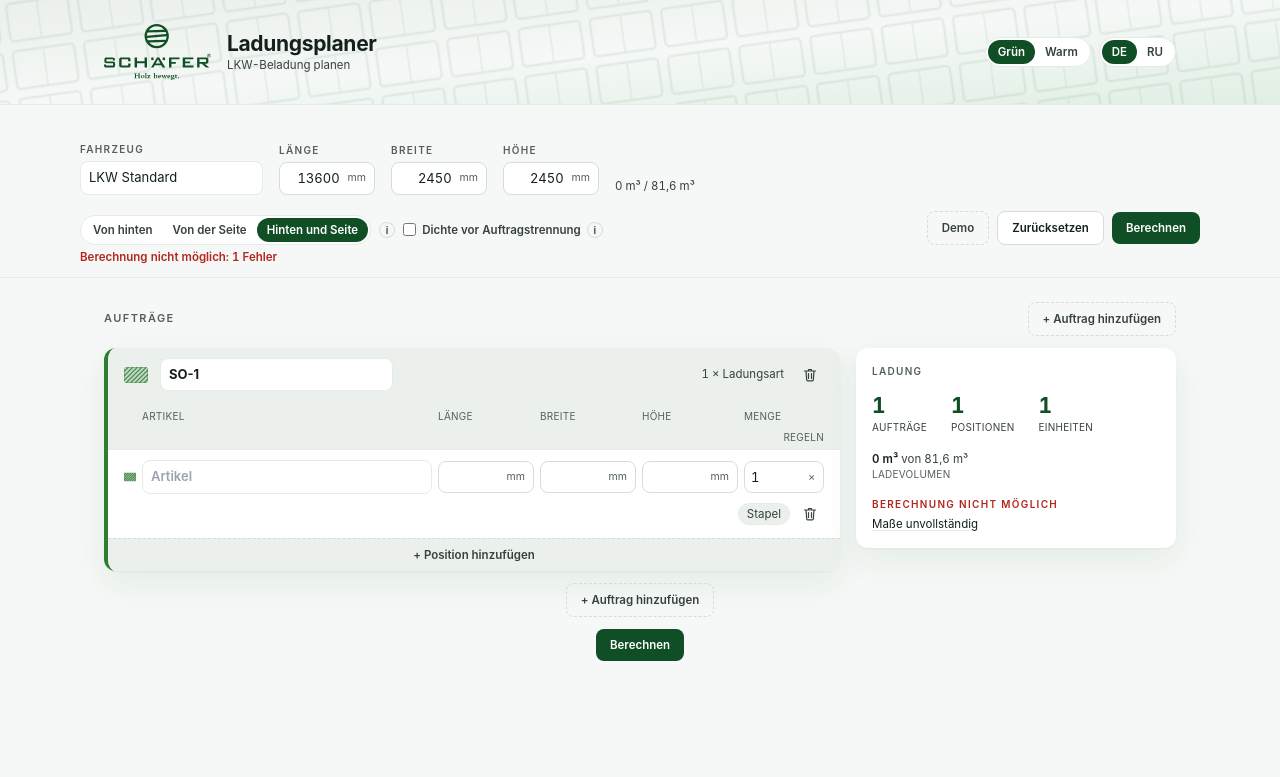
Scenario: SetupScreen › defaults orientation to free (no fork constraint) and hides the fork-axis control
Click the button with test id "rule-chip" at (764, 514), box [738,503,790,525]
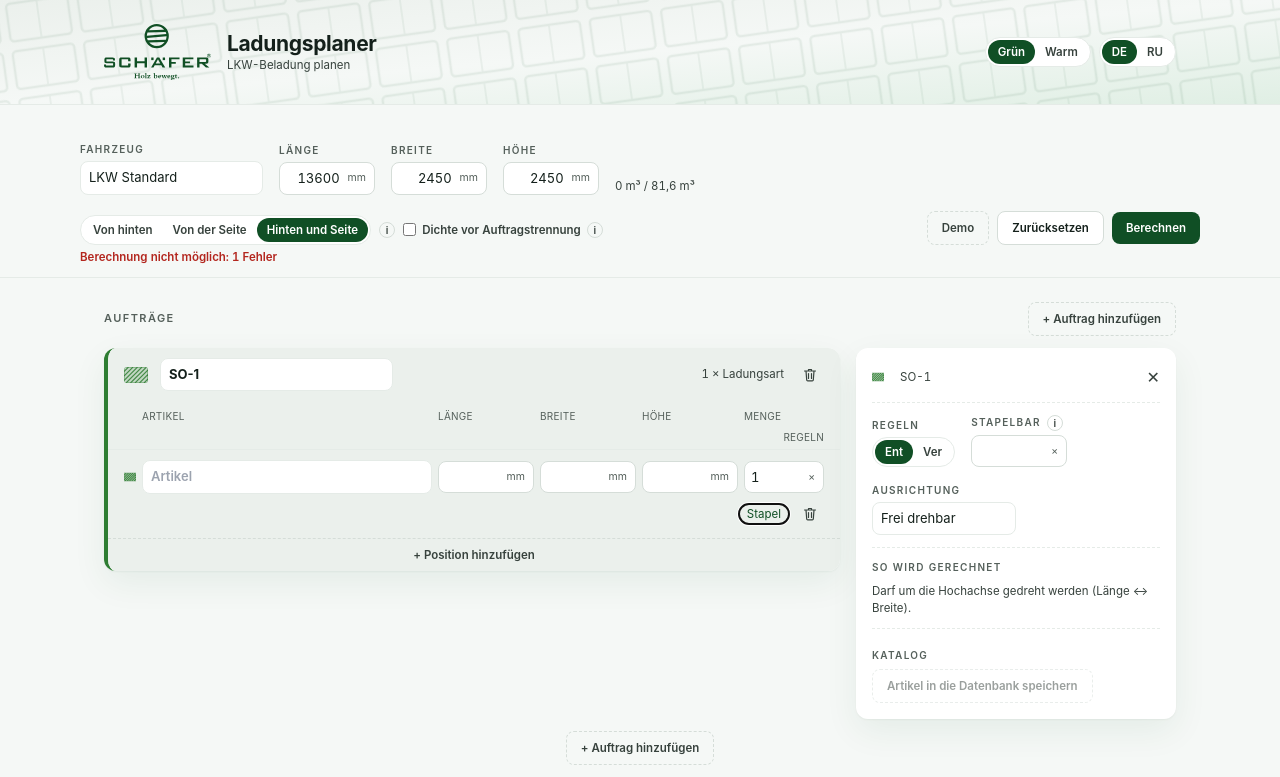
Now the dropdown labelled "Ausrichtung" shows "Frei drehbar", box [872,502,1016,536]
